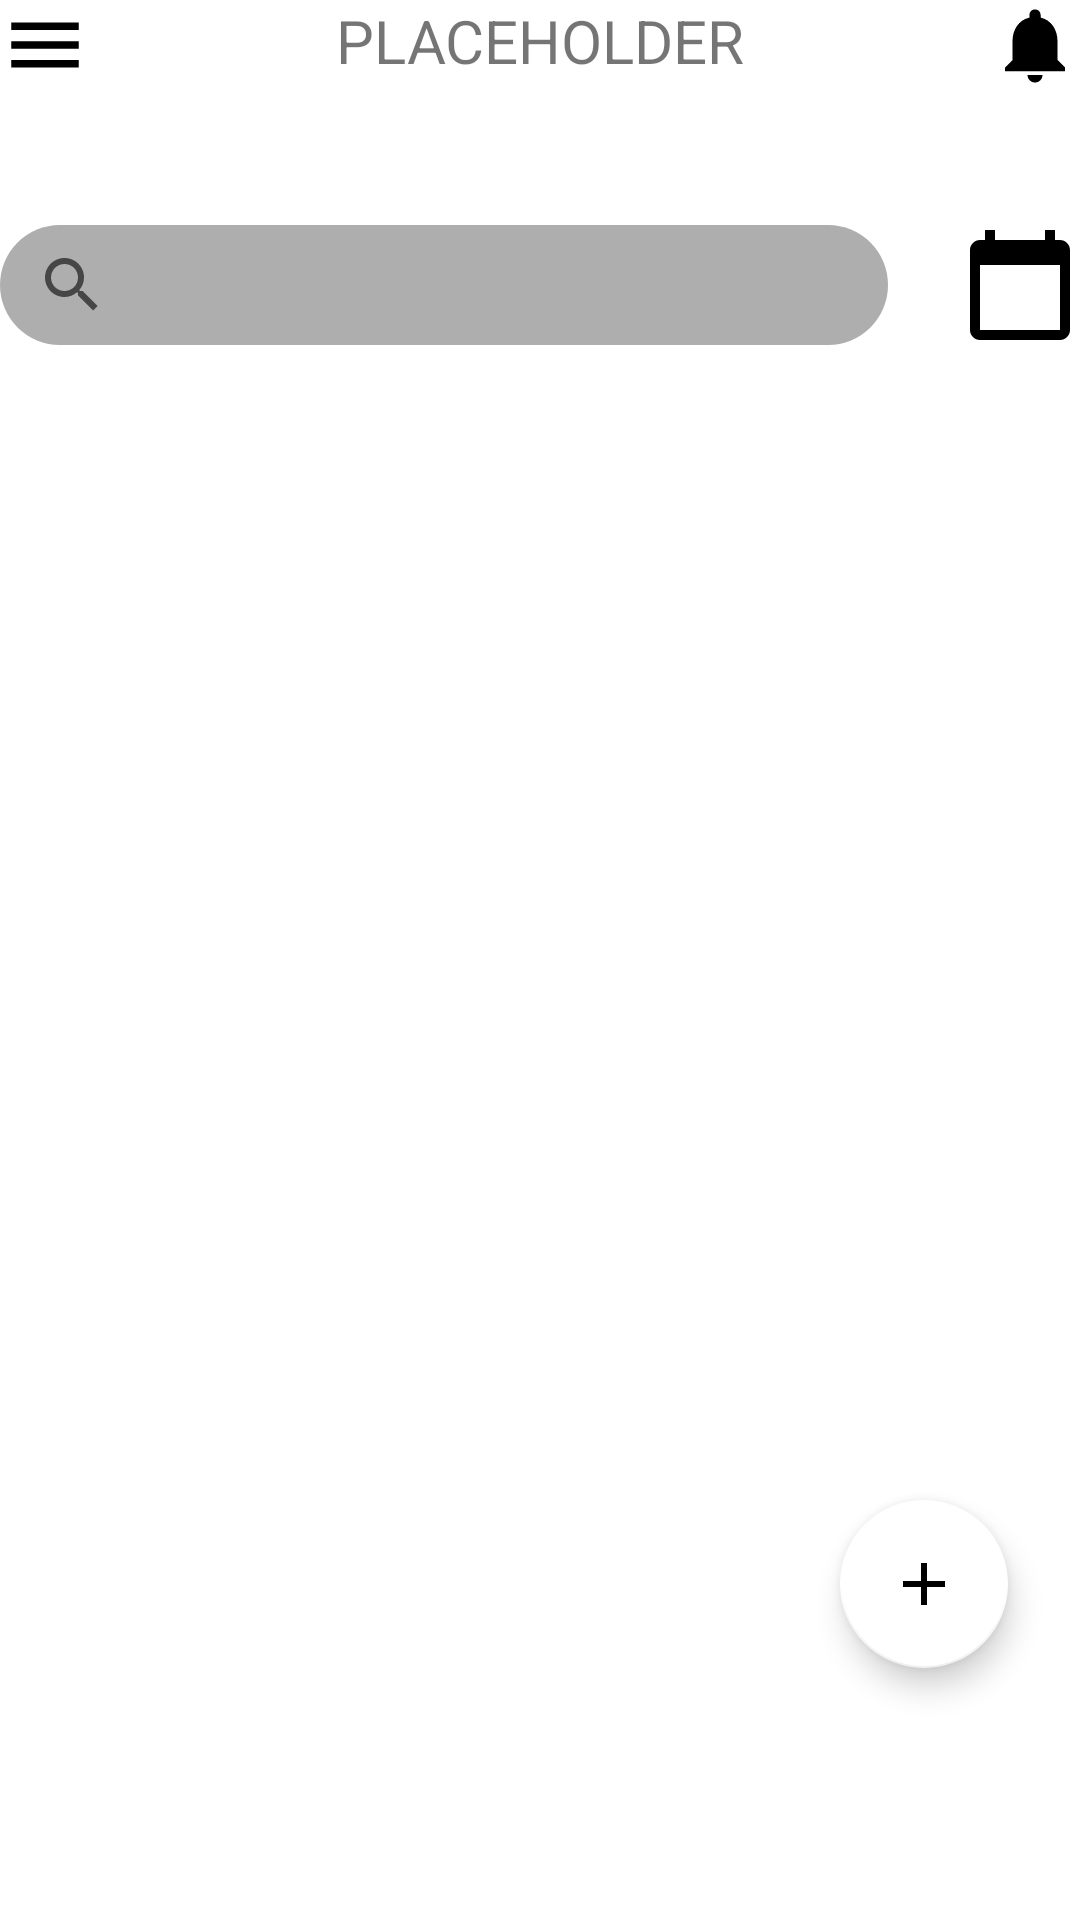

Named icons in this screenshot (1080px x 1920px) and their bounding boxes, rect(x1, y1, x2, y2):
add: rect(845, 1563, 1008, 1668)
calendar today: rect(970, 230, 1070, 340)
menu: rect(11, 22, 79, 68)
notifications: rect(1005, 9, 1065, 83)
